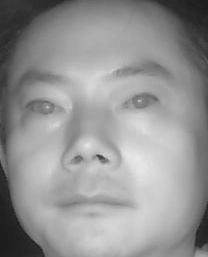eye: (118, 89, 162, 118), (22, 95, 68, 122)
mouth: (53, 181, 140, 224)
